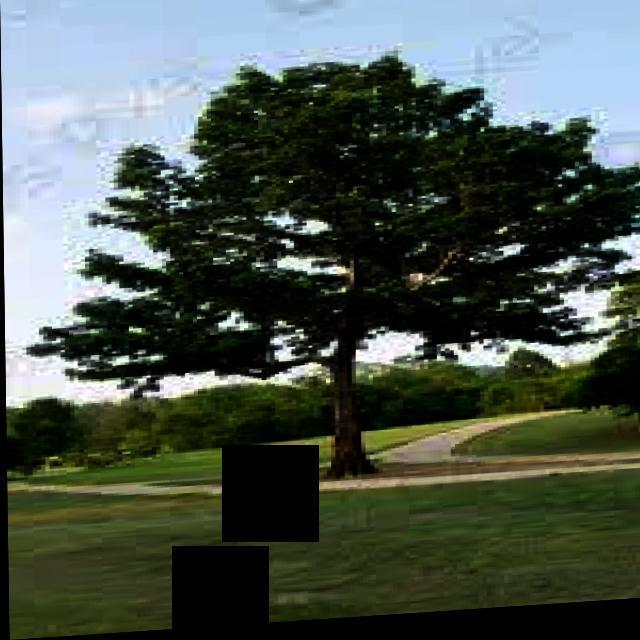tree: (18, 54, 640, 492)
